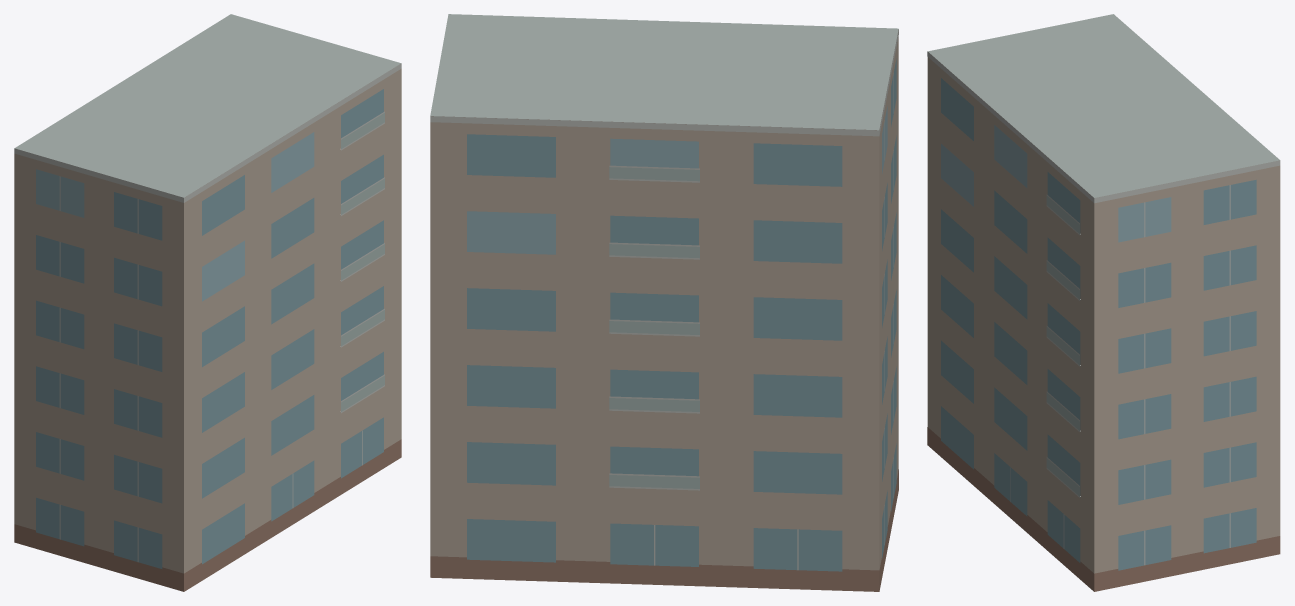
The model's file is survey-upis-32700341.glb.
3 renders of one model, left to right at view 1: azimuth 30°, elevation 25°; view 2: azimuth 150°, elevation 25°; view 3: azimuth 270°, elevation 25°, orthographic. The views are drawn at different scales.
Visible parts, largest first — view 1: survey-upis-32700341.tmp; view 2: survey-upis-32700341.tmp; view 3: survey-upis-32700341.tmp.
Boxes of the visible parts, box(x1,y1,x2,y2) form: survey-upis-32700341.tmp: box(14, 14, 401, 591); survey-upis-32700341.tmp: box(430, 14, 898, 591); survey-upis-32700341.tmp: box(927, 14, 1280, 591).
Bounding box in the file's own units: 18.35 × 18.3 × 14.87.
